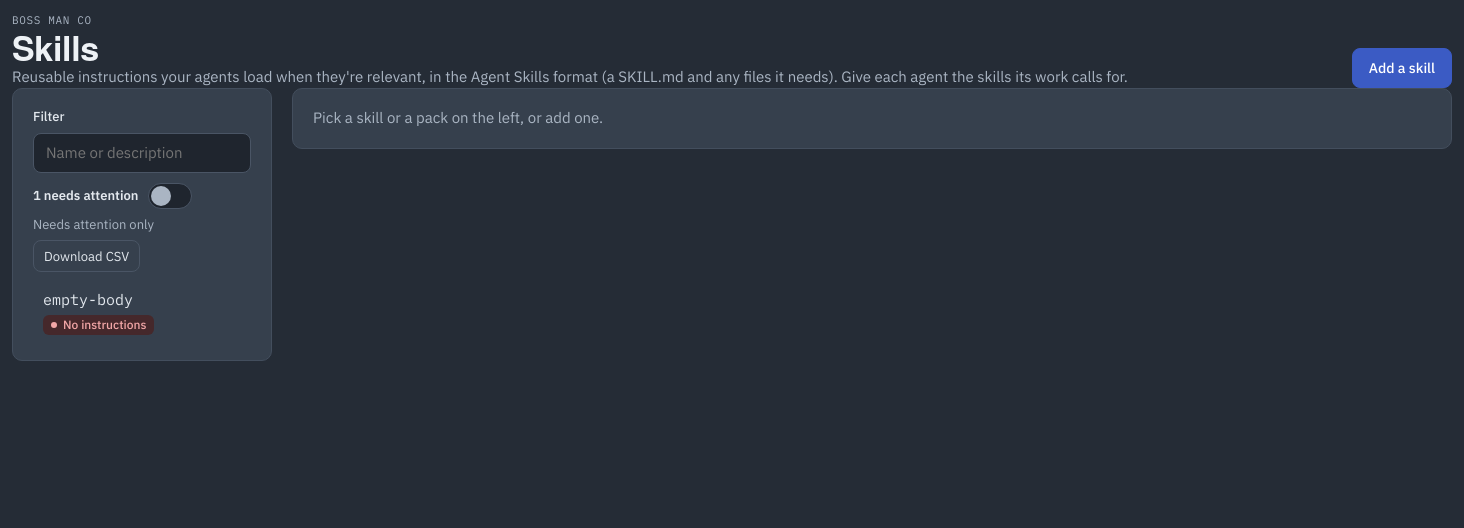
Test: skills › marks a skill with no instructions, on the list and on the skill
Expected: the text "No instructions" is shown, 43,314 -> 154,335
What coordinates should you click on to do the following:
click the link "empty-body No instructions"
I would click on:
 (99, 313)
Its box is 43,290 -> 154,335.
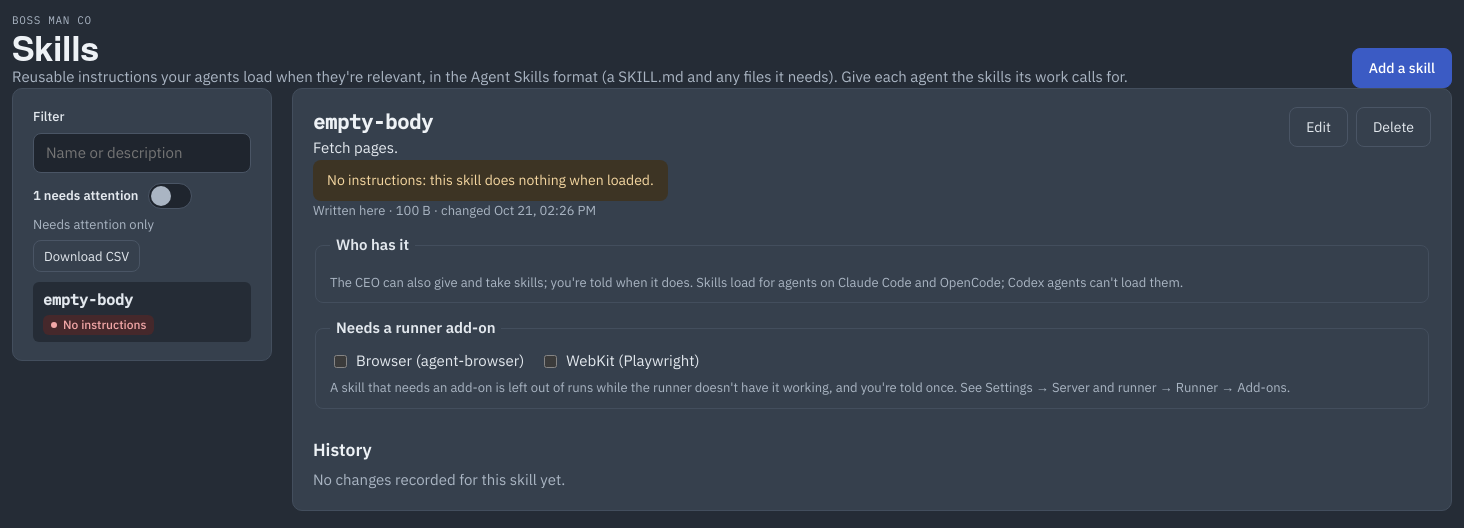
Expected: the text "No instructions: this skill does nothing when loaded." is shown, 327,170 -> 654,191
Expected: the button "Edit" is shown, 1289,107 -> 1348,147
